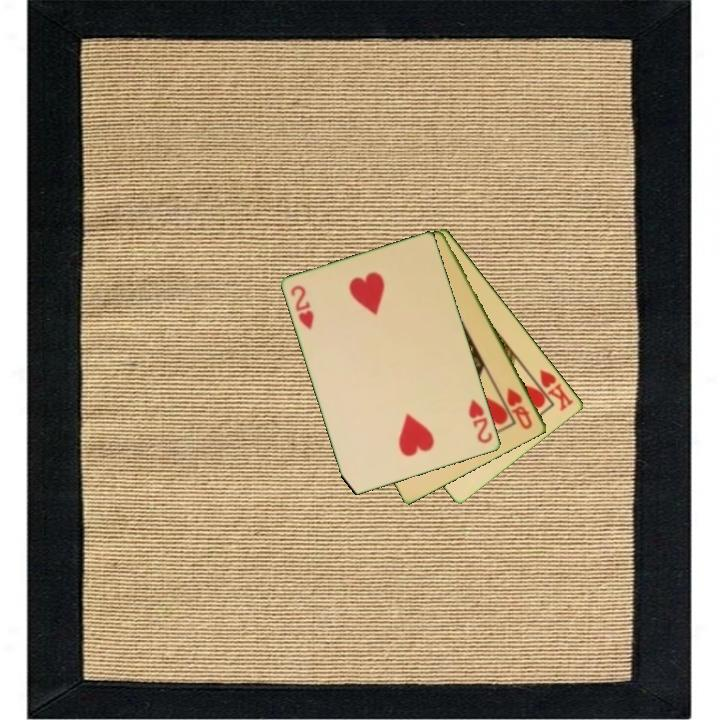2h: (465, 395, 496, 447), (287, 282, 317, 333)
Kh: (528, 366, 577, 414)
Qh: (503, 384, 536, 433)
